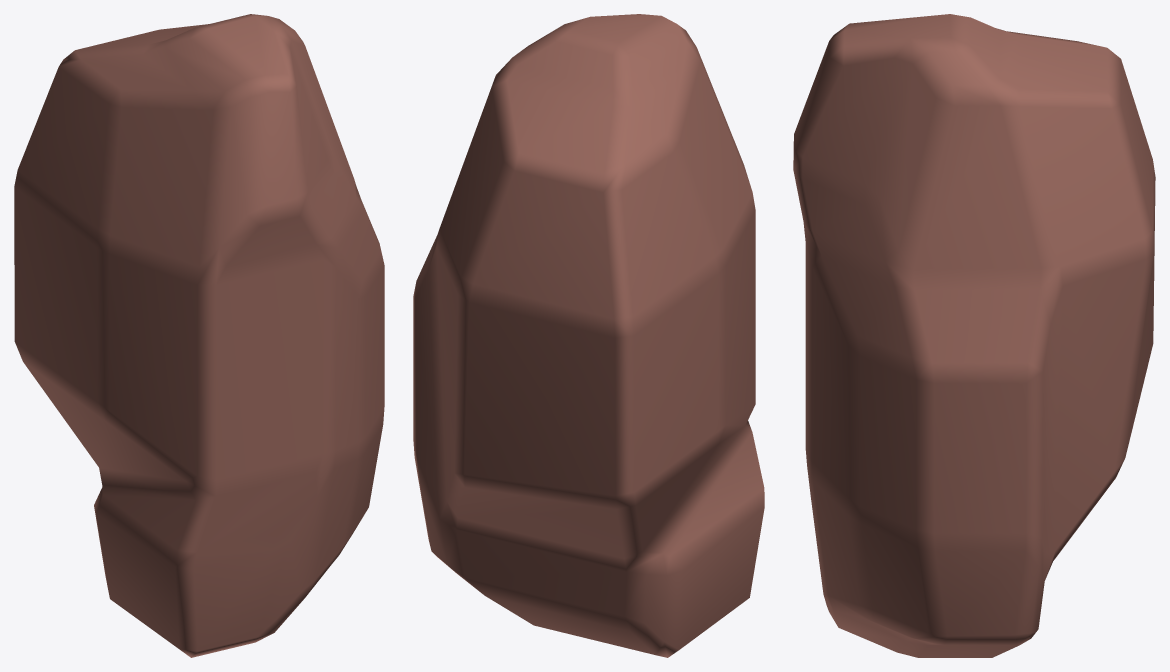
The model's file is SM_rock_modular_A.fbx.
The picture shows the model from 3 angles, left to right: view 1: azimuth 30°, elevation 25°; view 2: azimuth 150°, elevation 25°; view 3: azimuth 270°, elevation 25°; orthographic projection. The views are drawn at different scales.
Parts seen in each view (by area): view 1: pCube45; view 2: pCube45; view 3: pCube45.
Part boxes in pixels (x1,y1,x2,y2): pCube45: [14, 14, 384, 657]; pCube45: [413, 14, 764, 657]; pCube45: [793, 14, 1155, 657].
Size of the model in its own units: 897 by 1825 by 973.
